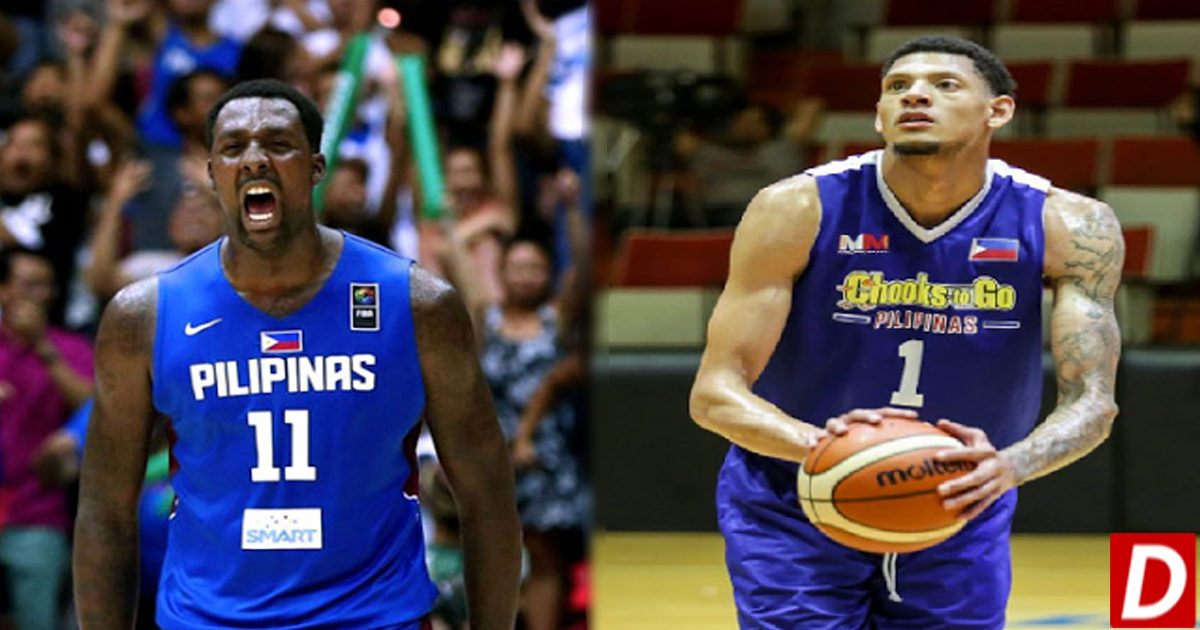ball: (793, 409, 987, 557)
player: (687, 37, 1116, 630), (77, 87, 525, 630)
